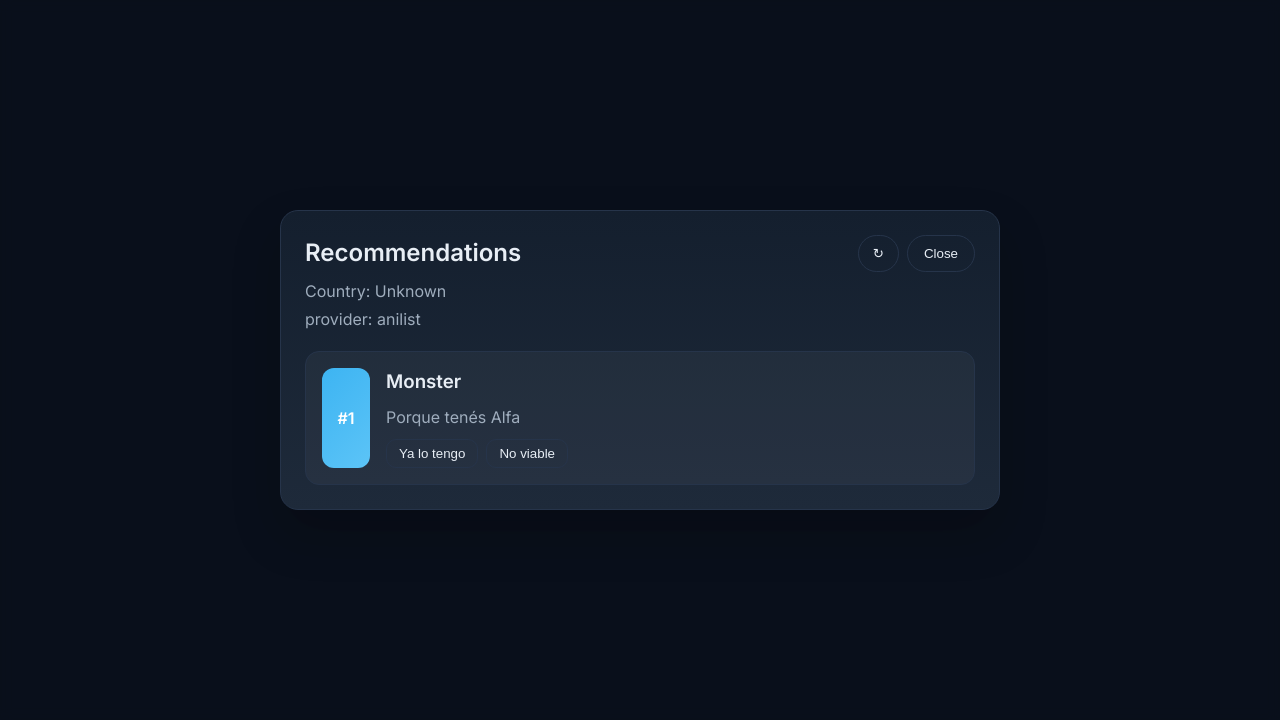
RecommendationModal · feedback AniList › ↻ pide un lote nuevo de `limit`
Click the button named "Refrescar recomendaciones": (878, 254) [858,236,899,272]
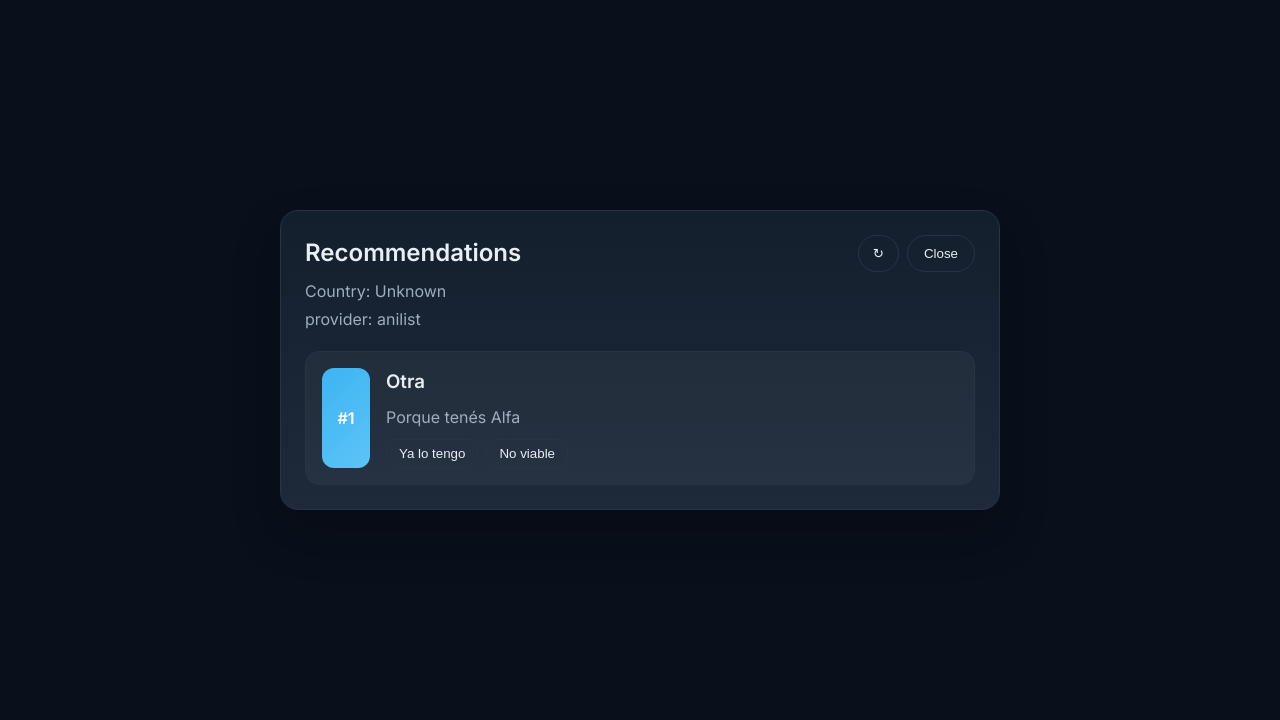
Check: the heading "Otra" is shown, box [386,370,425,394]
